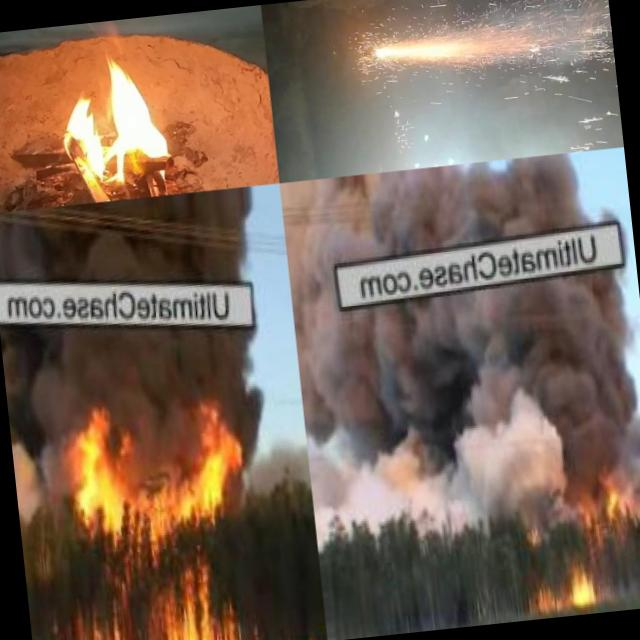fire: (48, 21, 186, 205), (172, 397, 248, 514), (70, 408, 138, 534), (160, 568, 250, 640), (560, 549, 609, 616), (78, 599, 152, 640), (588, 461, 628, 531), (528, 574, 570, 619), (526, 516, 550, 548)
smoke: (304, 394, 587, 532), (1, 342, 76, 526), (606, 354, 640, 505)
